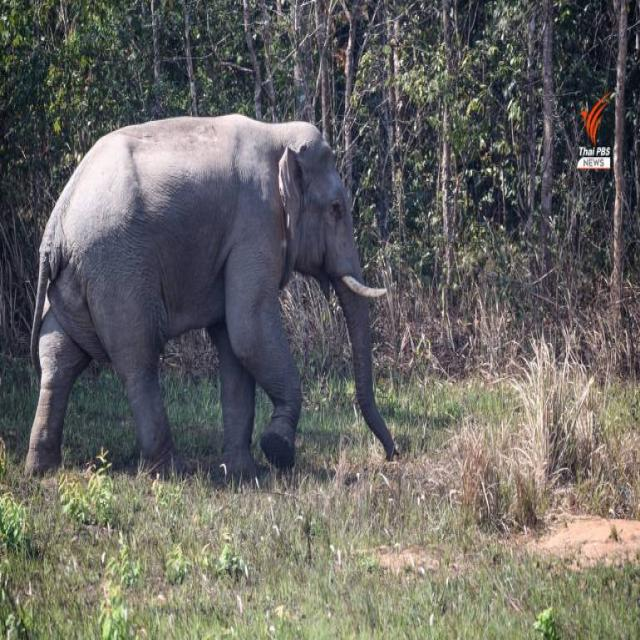Elephant: (16, 81, 410, 547)
